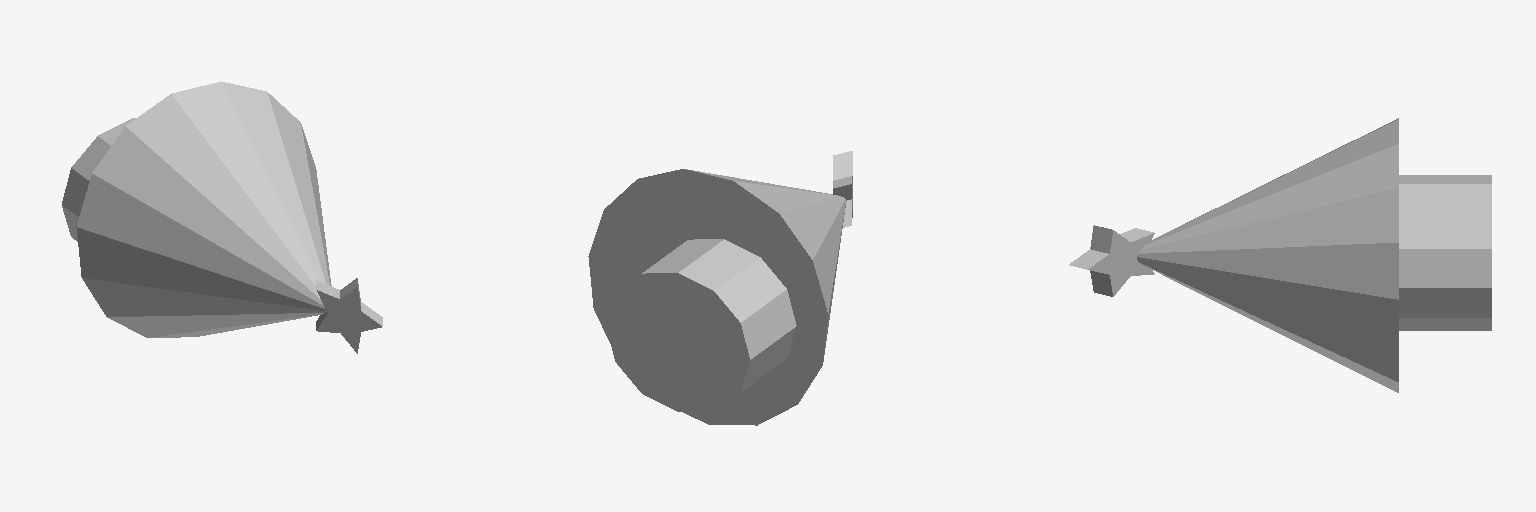
The model's file is tree.obj.
3 views of the same model, side by side, from view 1: azimuth 30°, elevation 25°; view 2: azimuth 150°, elevation 25°; view 3: azimuth 270°, elevation 25° (orthographic).
Parts seen in each view (by area): view 1: obj_0; view 2: obj_0; view 3: obj_0.
Boxes of the visible parts, box(x1,y1,x2,y2) form: obj_0: box(62, 81, 382, 353); obj_0: box(588, 151, 852, 425); obj_0: box(1069, 118, 1491, 392).
Size of the model in its own units: 59.67 by 59.34 by 91.41.